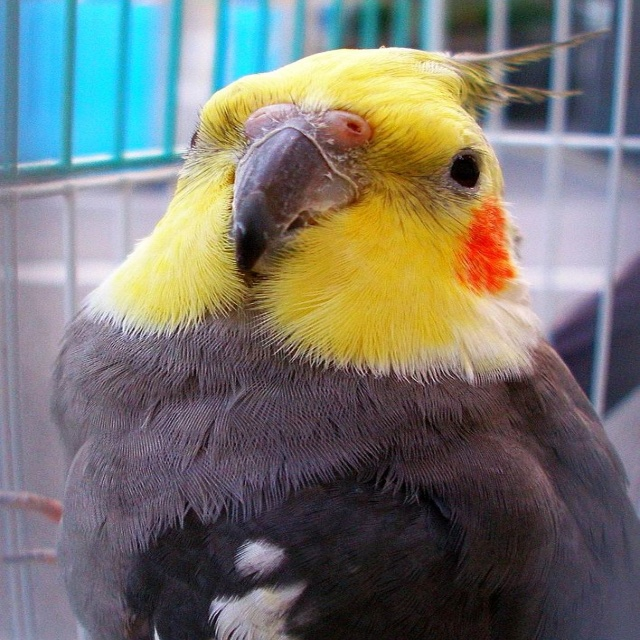Parrot: (48, 28, 640, 640)
